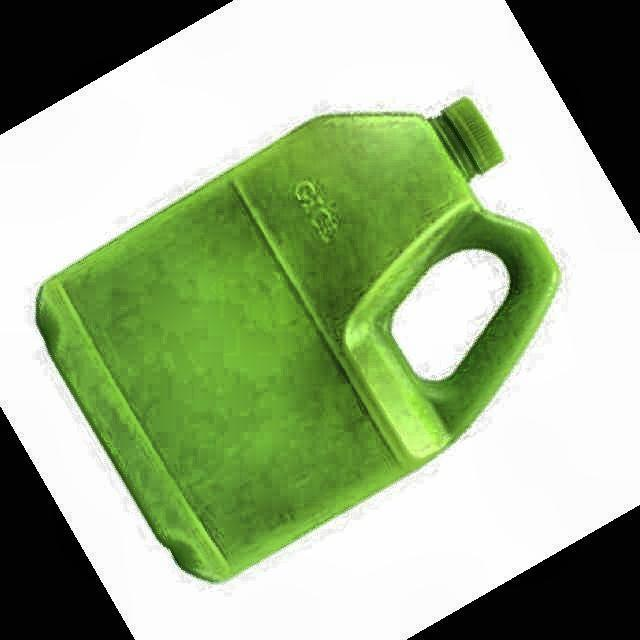plastic: (36, 99, 559, 581)
